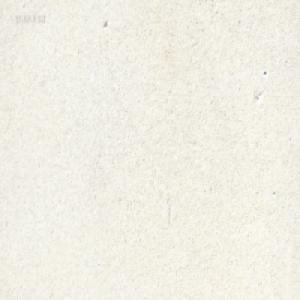Wrench: (167, 0, 173, 5)
